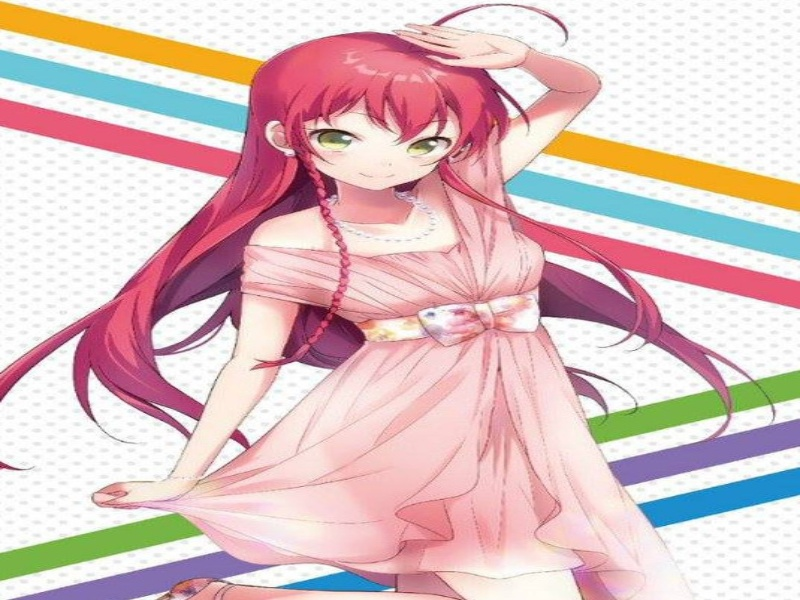dress: (196, 223, 675, 600)
person: (236, 22, 527, 202)
